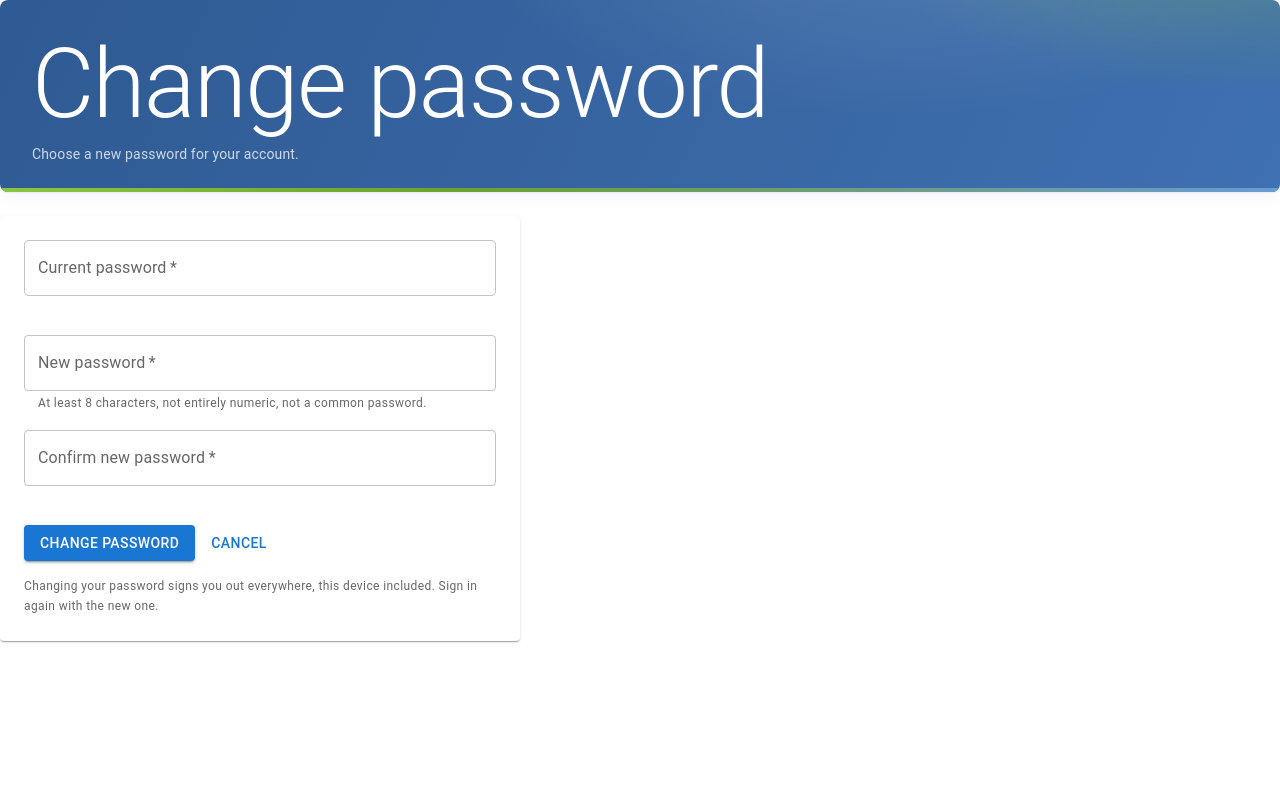
Test: ChangePasswordPage › refuses to submit when the two do not match
The width and height of the screenshot is (1280, 800).
Type "Old@2026" into the password field labelled "Current password *". click: (260, 268)
box: [24,240,496,296]
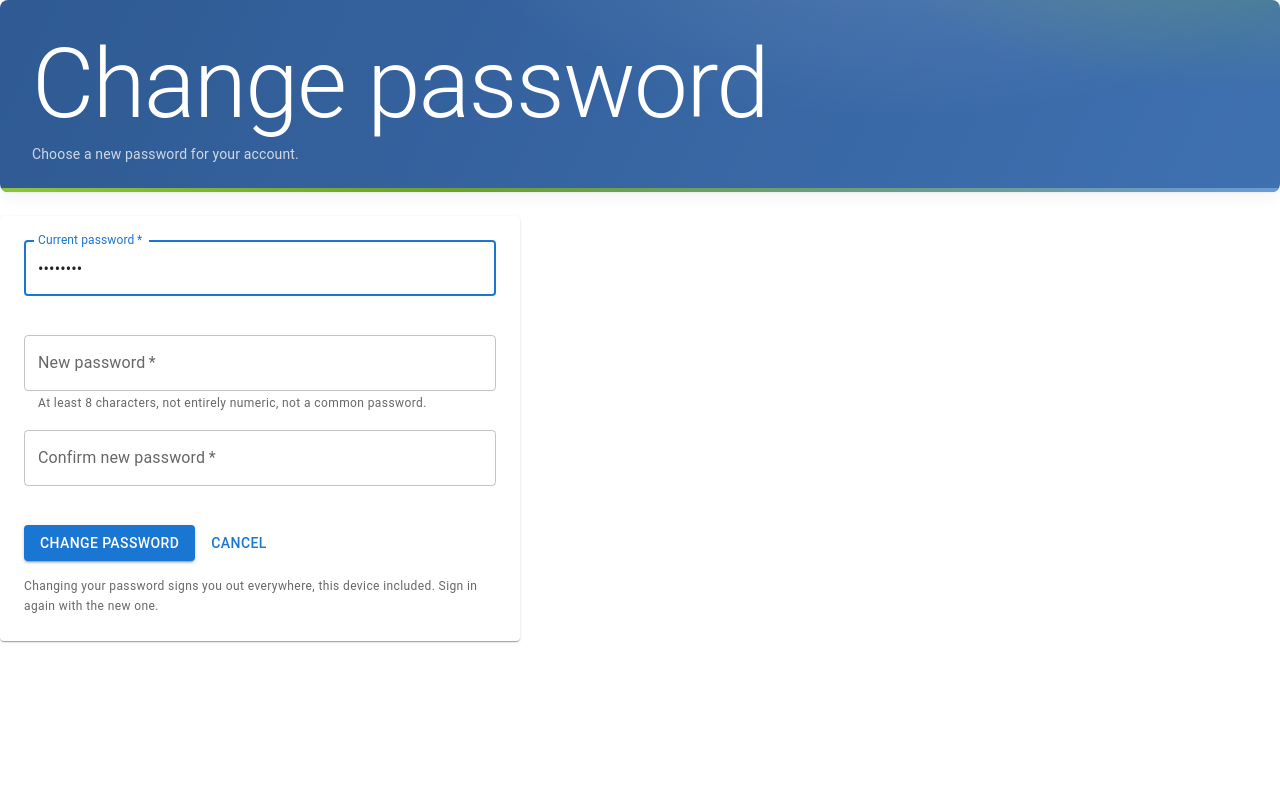
Type "Chosen@2026" into the password field labelled "New password *". click: (260, 363)
box: [24,335,496,391]
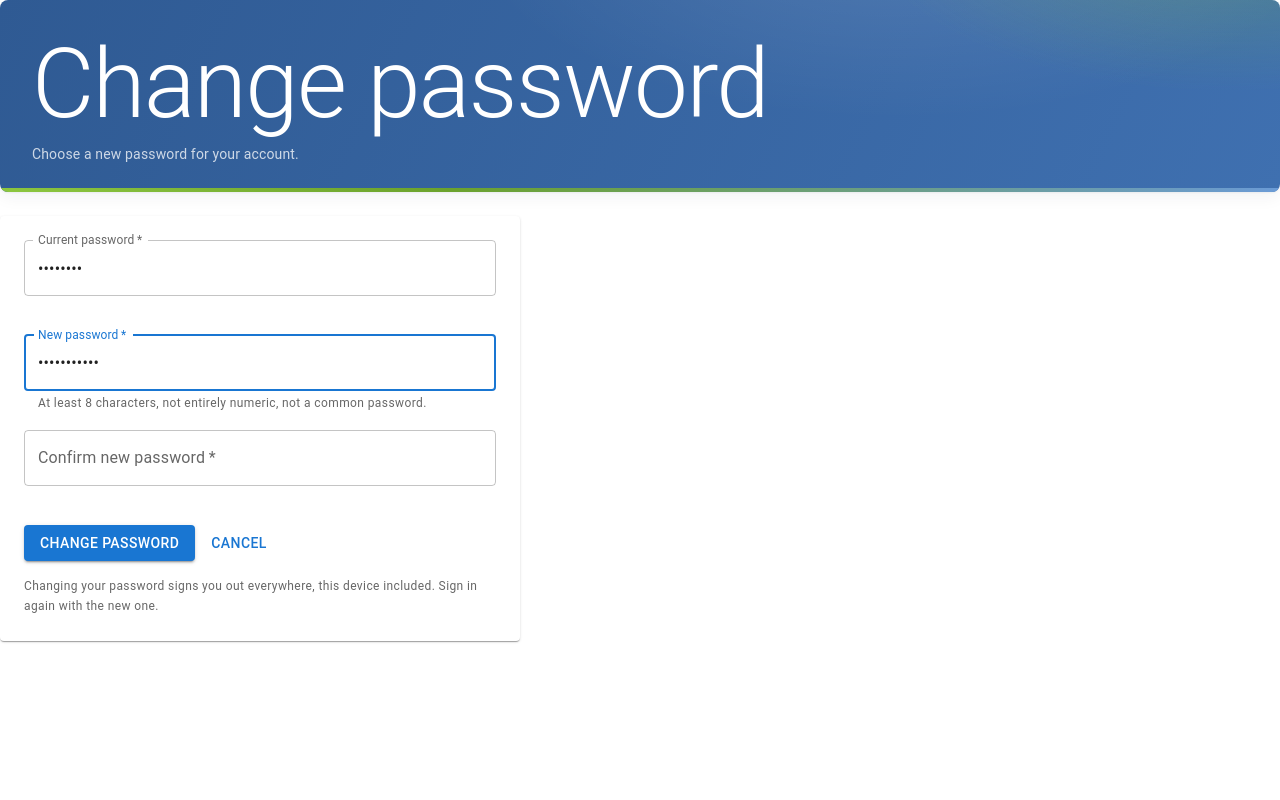
Type "Chosen@2027" into the password field labelled "Confirm new password *". click: (260, 458)
box: [24,430,496,486]
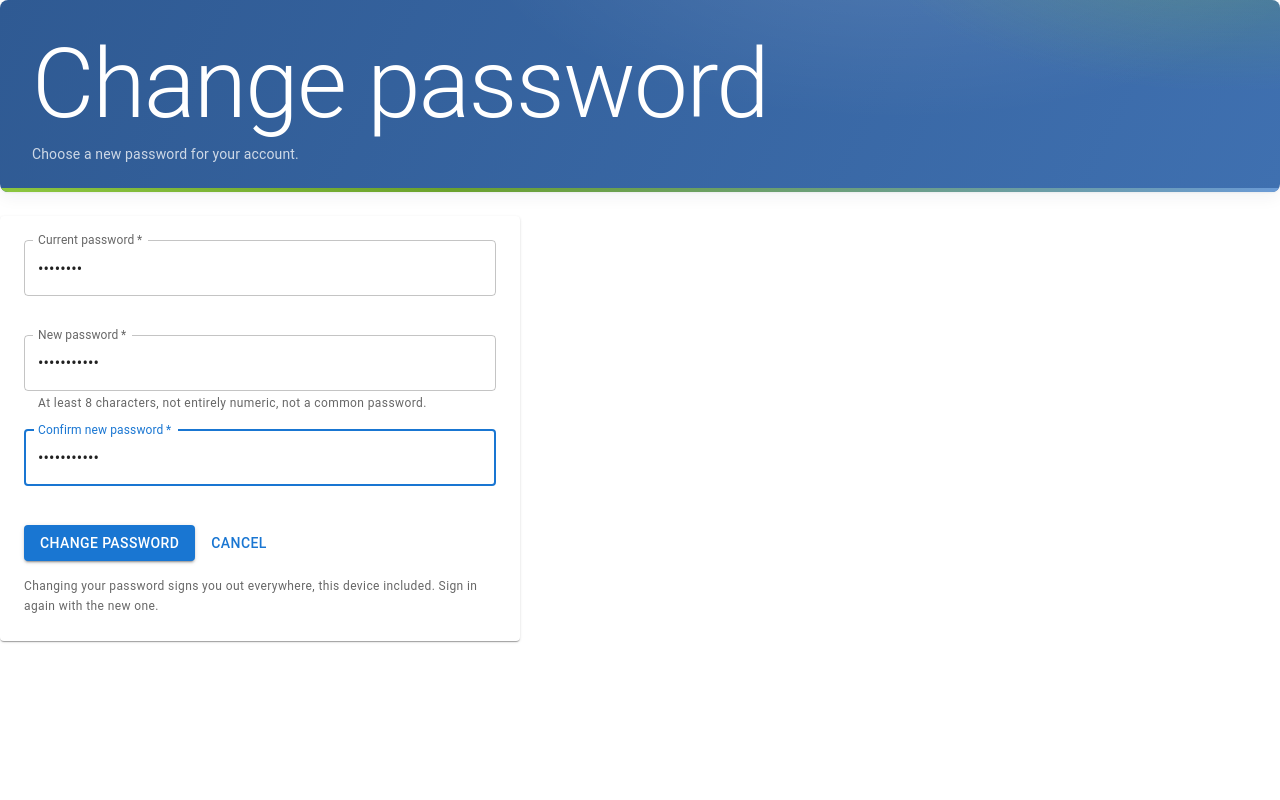
Click the button "Change password". click: click(110, 543)
box: [24,525,195,561]
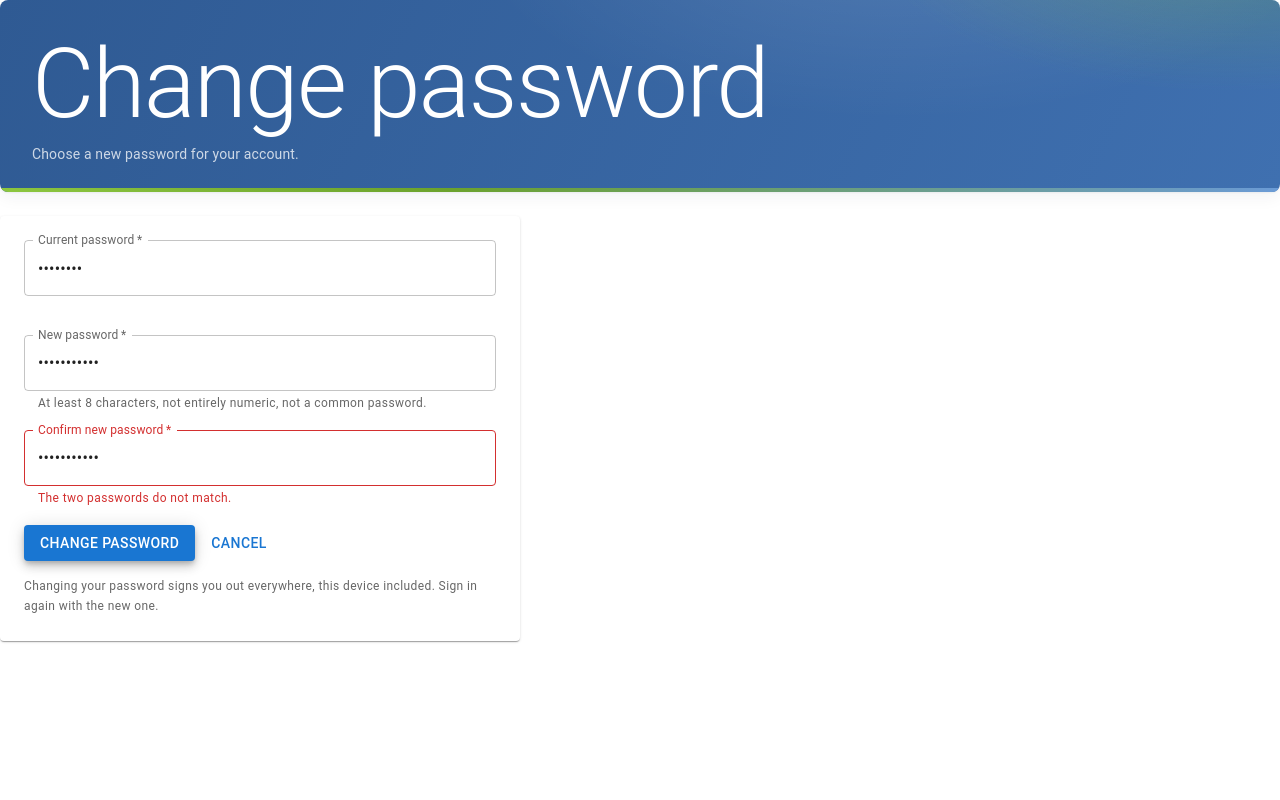
Expected: the text "The two passwords do not match." is shown, [38,491,232,505]
